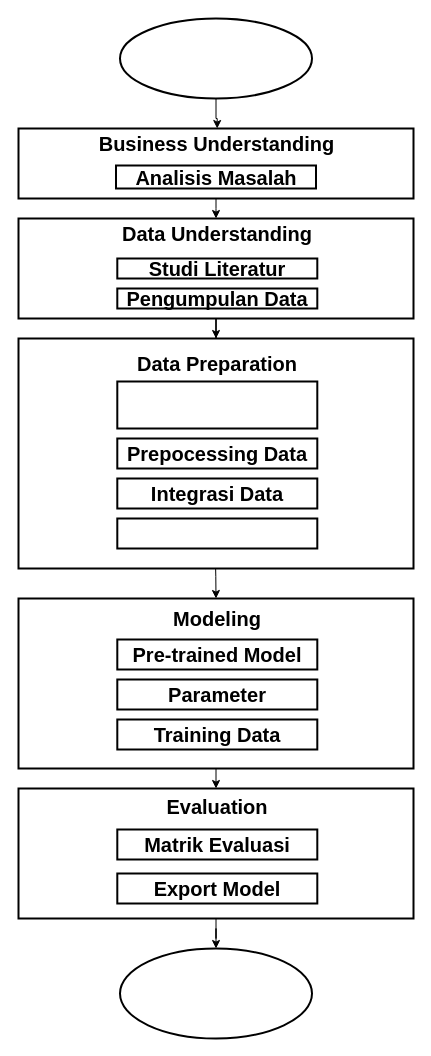
Some shapes in this 431 by 1056 pixel diagram are drawn without their labels. The box of each missing label's shape, as (x1, y1, x2, y2) in pixels:
Mulai: (118, 17, 312, 99)
Pengambilan Citra Landsat-8: (116, 380, 318, 429)
Selesai: (118, 947, 312, 1039)
Split Data: (116, 517, 318, 549)
